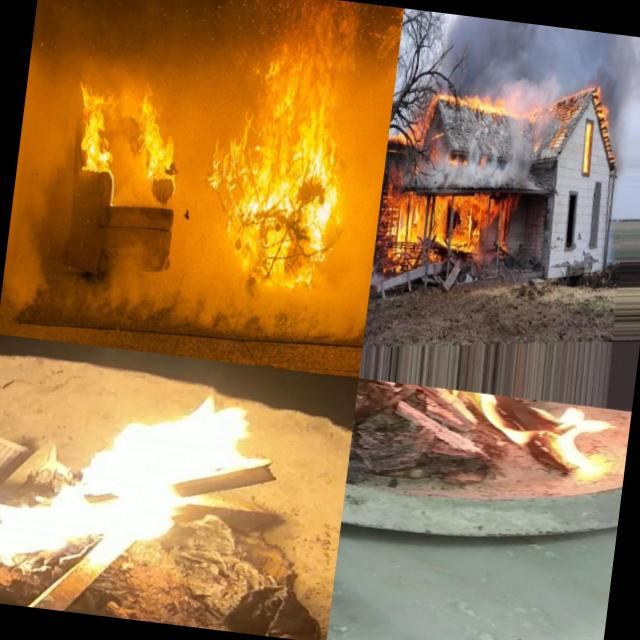fire: (0, 358, 192, 609), (198, 26, 362, 300), (58, 9, 200, 221), (351, 378, 598, 471), (379, 189, 514, 268), (436, 82, 508, 116), (578, 116, 596, 178)
smoke: (438, 13, 639, 108), (444, 127, 508, 198)
